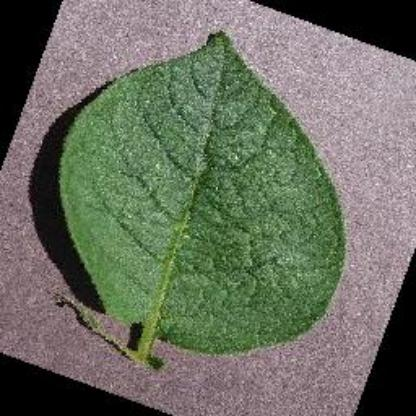Healthy-plant: (51, 22, 352, 376)
